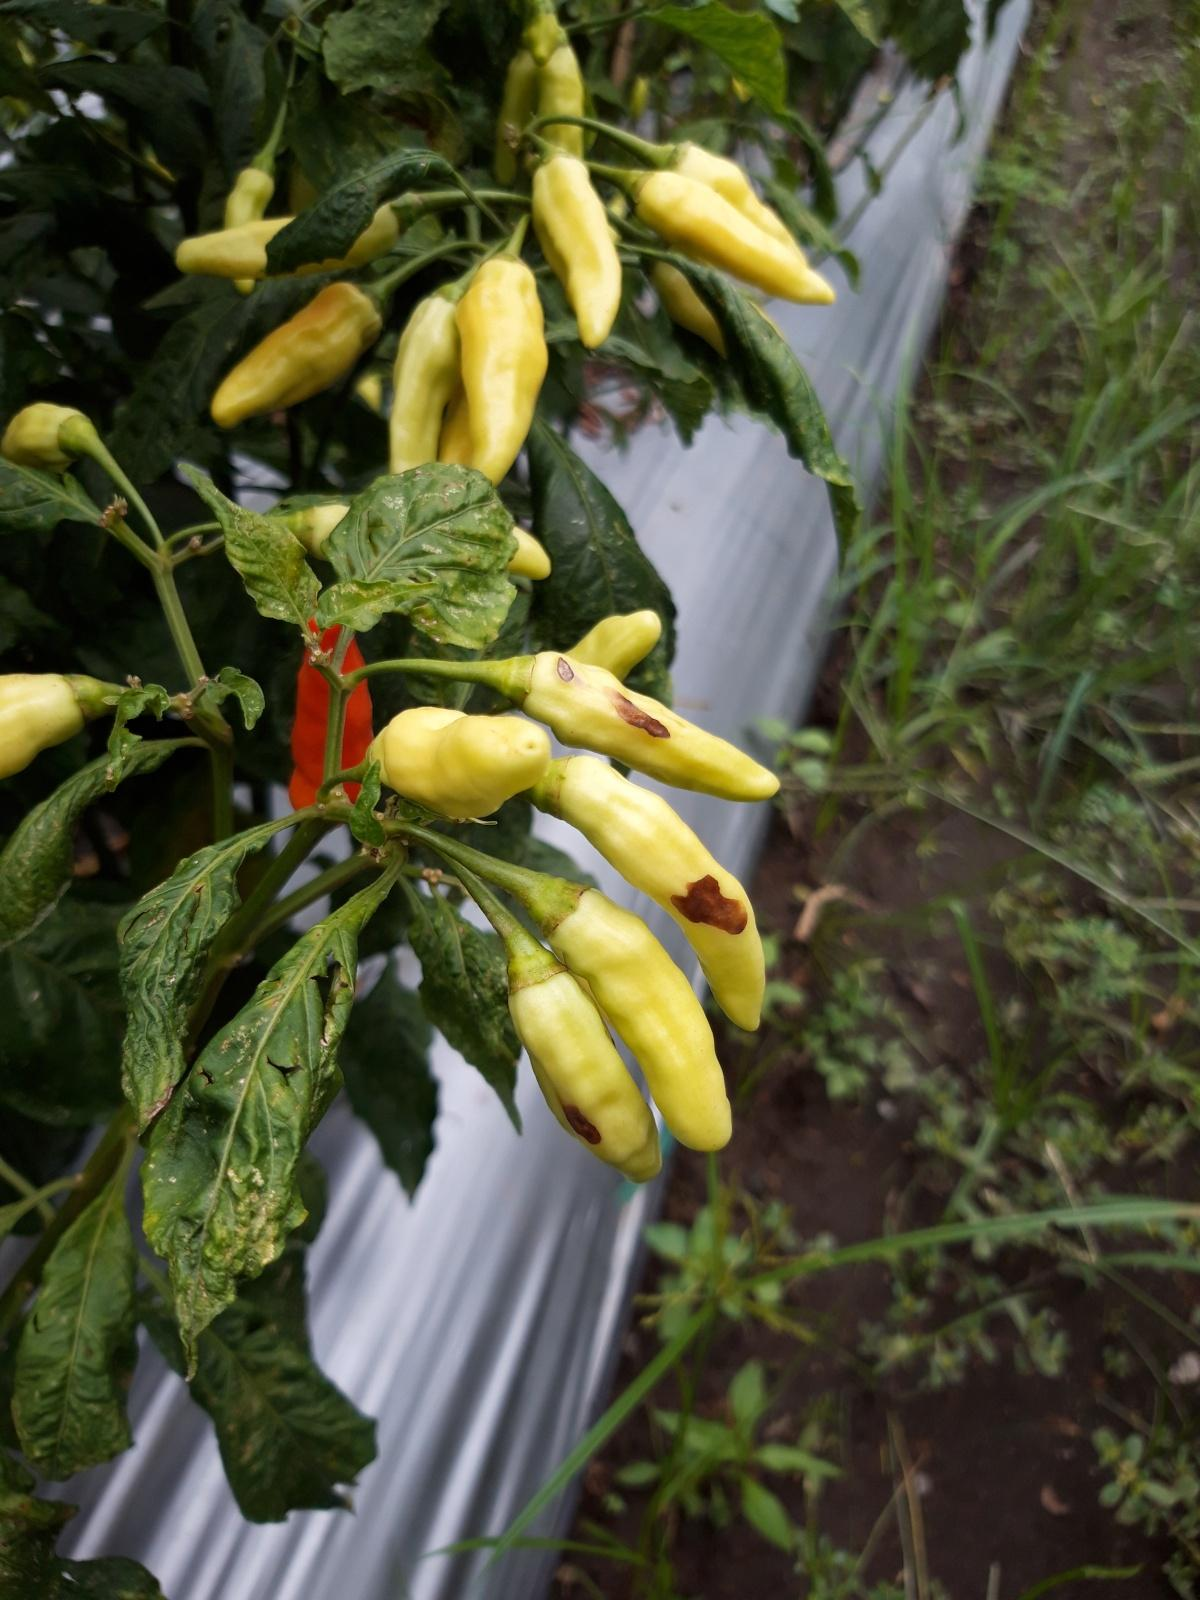cabai_normal: (524, 874, 734, 1151), (621, 168, 834, 306), (211, 282, 384, 430), (358, 704, 550, 819), (458, 253, 550, 488), (531, 150, 621, 349), (388, 283, 466, 474), (1, 401, 83, 467)
lalat_buah: (528, 755, 765, 1032), (497, 649, 779, 805), (505, 935, 662, 1184)
